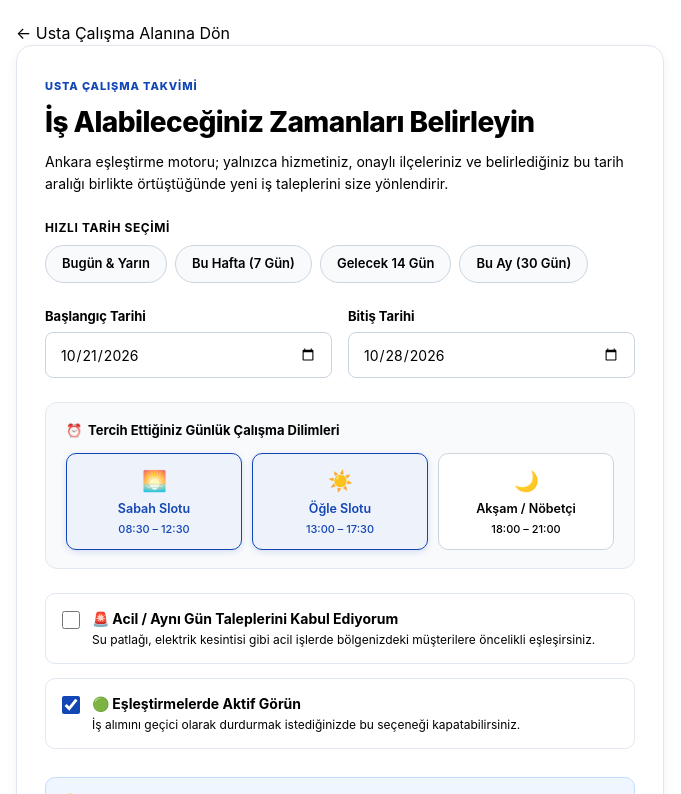
Test: TradespersonAvailabilityPage › submits availability payload and displays success message
Click the checkbox labelled "Acil / Aynı Gün Taleplerini Kabul Ediyorum".
click(71, 620)  # box [62,611,80,629]
(page scrolled)
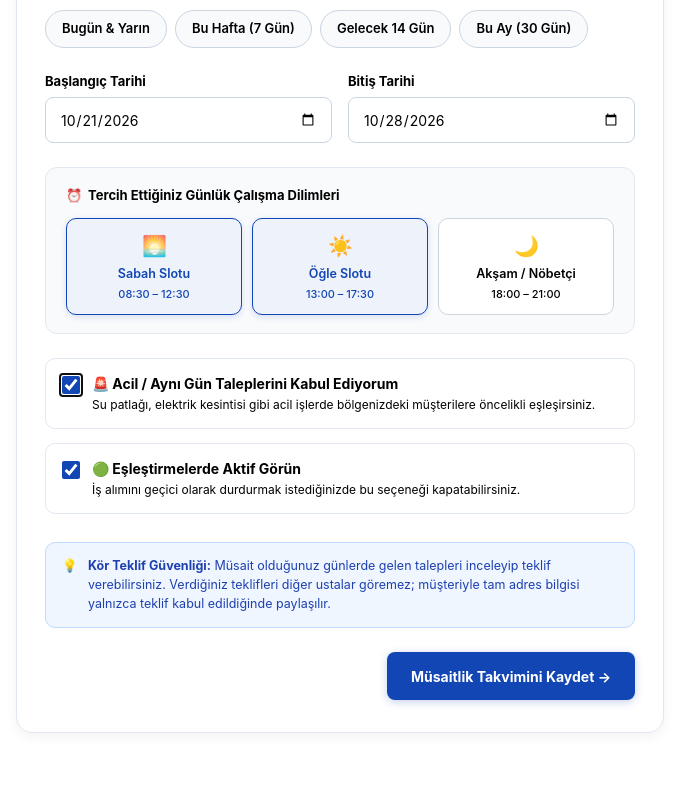
Click the button "Müsaitlik Takvimini Kaydet →".
click(511, 676)  # box [387,652,635,700]
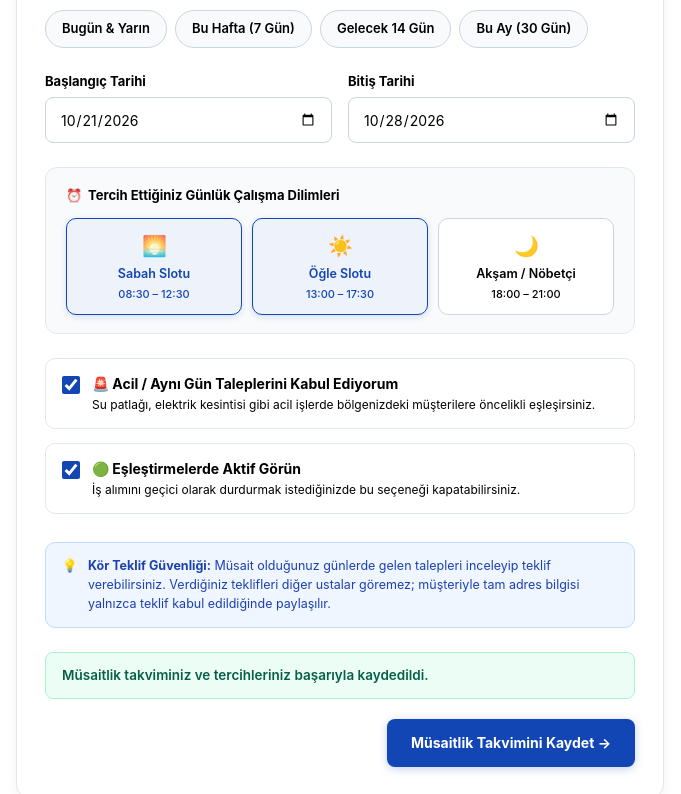
expect the message shows "başarıyla kaydedildi": met, box [62,667,429,683]
